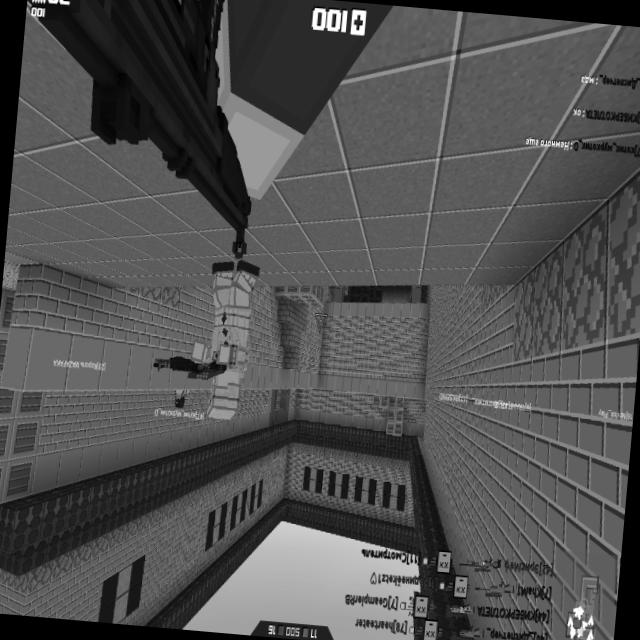enemy: (186, 256, 260, 423)
